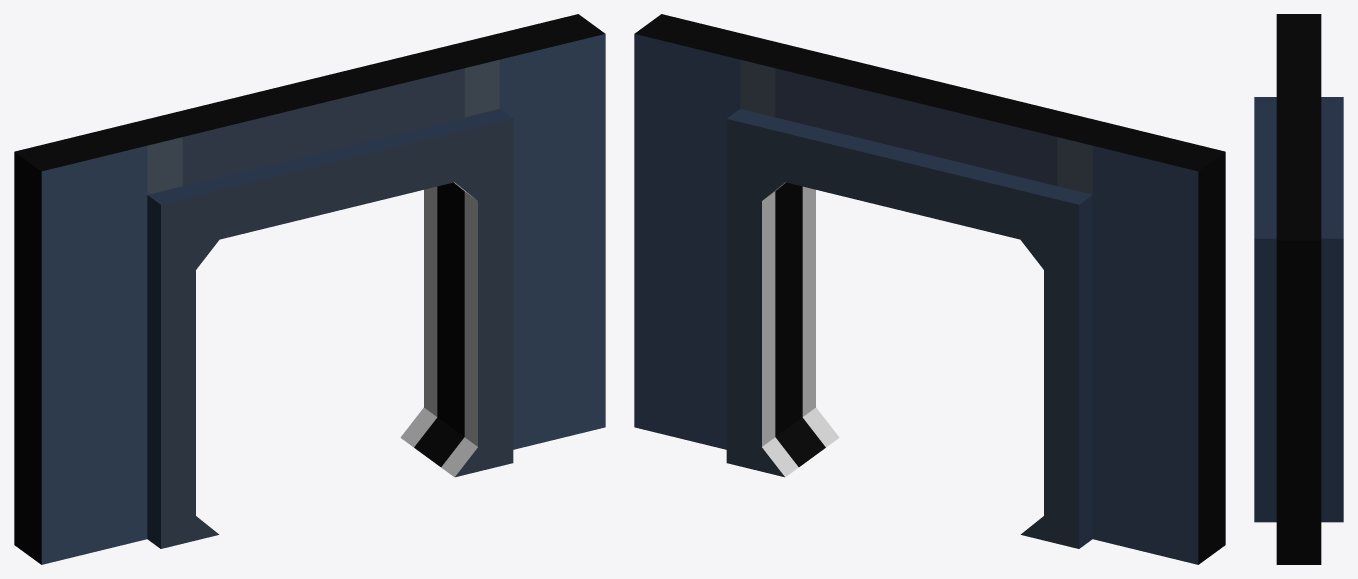
File: Doorway.fbx
3 views of the same model, side by side, from view 1: azimuth 30°, elevation 25°; view 2: azimuth 150°, elevation 25°; view 3: azimuth 270°, elevation 25° (orthographic). The views are drawn at different scales.
Parts seen in each view (by area): view 1: Doorway; view 2: Doorway; view 3: Doorway.
Part boxes in pixels (left/top/right/bottom): Doorway: left=14, top=14, right=605, bottom=564; Doorway: left=634, top=14, right=1225, bottom=564; Doorway: left=1254, top=14, right=1343, bottom=564.
Size of the model in its own units: 600 by 400 by 100.
